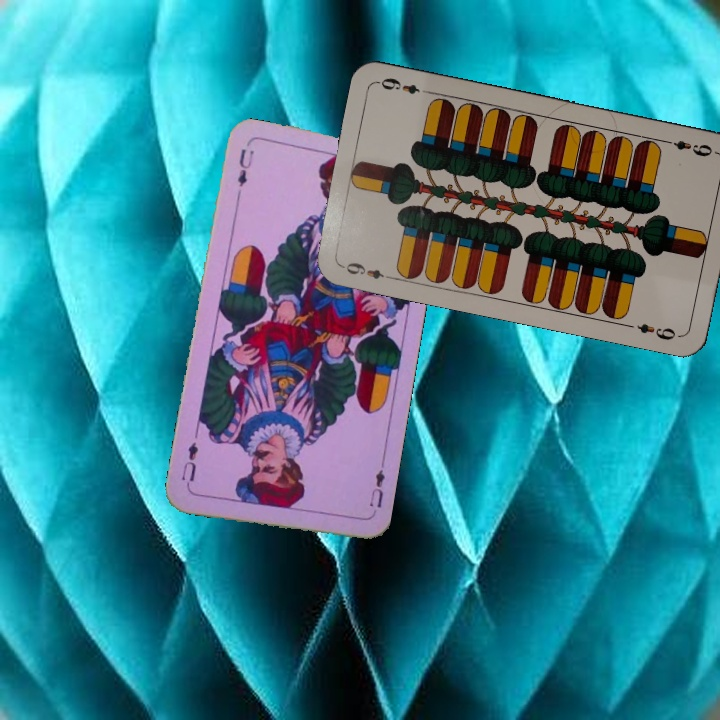E9: (338, 258, 396, 283), (660, 135, 715, 160)
EU: (365, 459, 388, 510), (233, 144, 256, 189)
